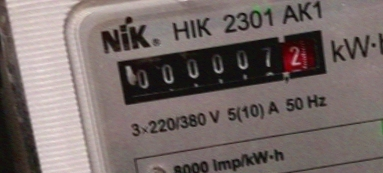0: (134, 65, 152, 90), (210, 51, 227, 75), (186, 55, 202, 80), (235, 46, 251, 71), (160, 61, 176, 85)
2: (288, 43, 304, 67)
7: (261, 43, 276, 68)
screen: (106, 17, 340, 115)
